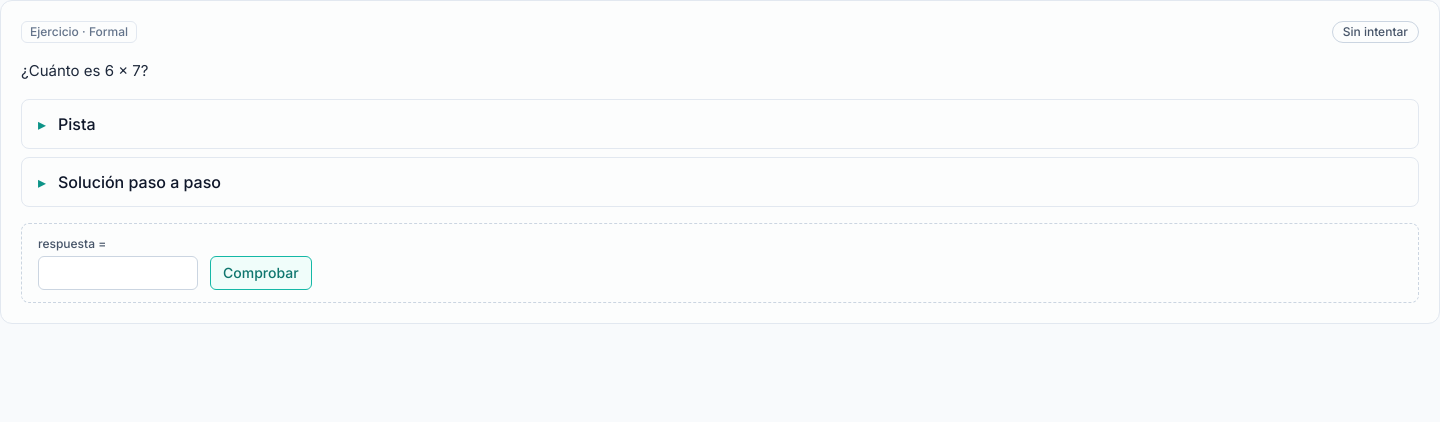
NumericExercise (comprobador numérico, integración) › respuesta incorrecta → estado rojo (error) y la pista sigue disponible
Step 1. Type "41" into the number field labelled "respuesta =" → x=118, y=273, box [38,256,198,290]
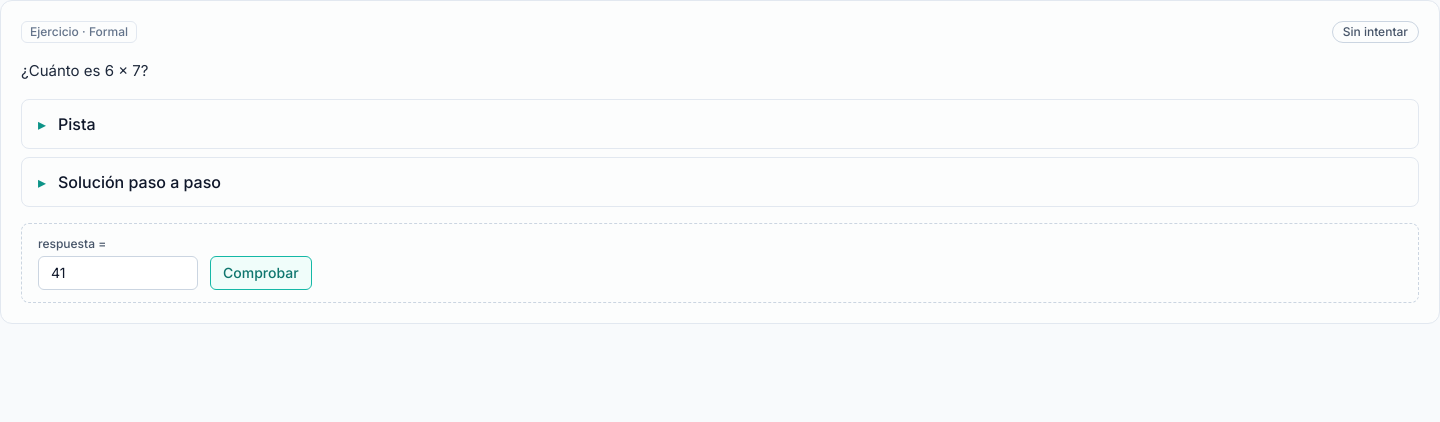
Step 2. Click the button "Comprobar" → x=261, y=273, box [210,256,312,290]
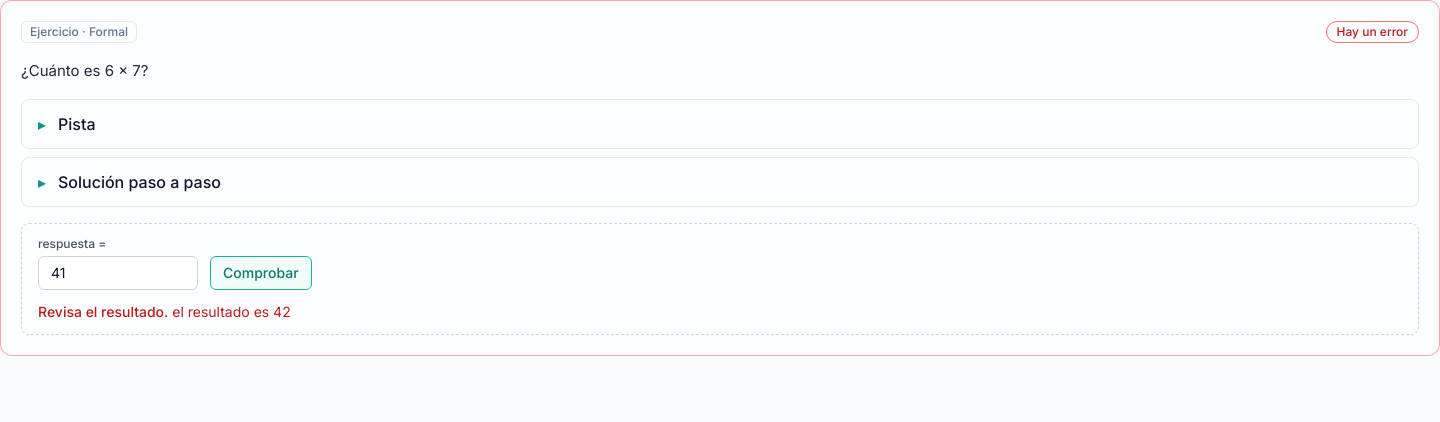
Result: the element with test id "exercise" has attribute data-status="error"
Note: La pista está disponible (acordeón "Pista").
Step 3. Click the button "▸ Pista" → x=77, y=124, box [22,100,1418,148]
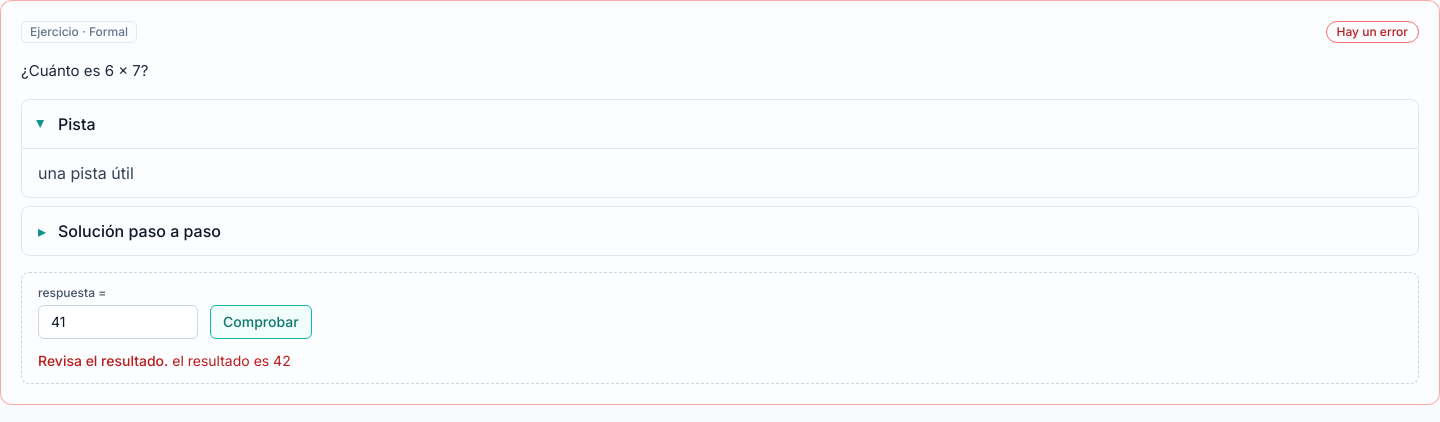
Result: the text "una pista útil" is shown at [38,163,134,183]
